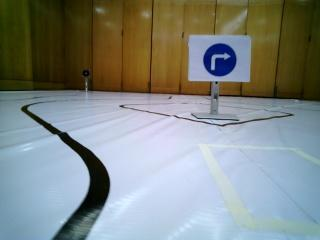right: (187, 37, 250, 80)
